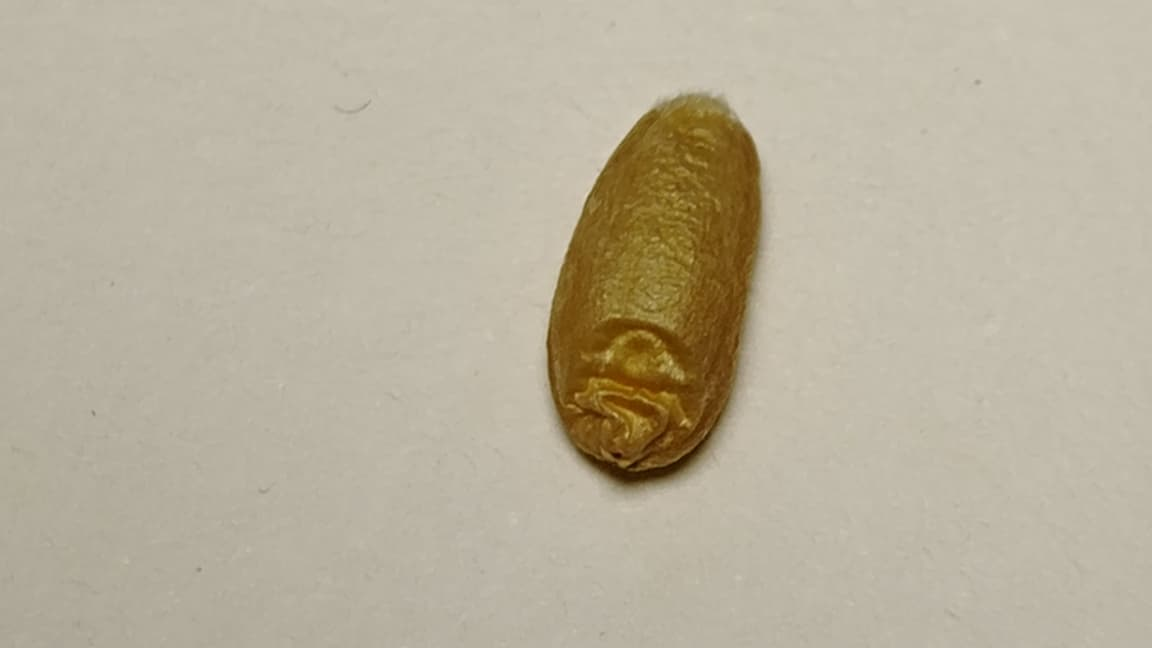healthy: (548, 93, 760, 469)
